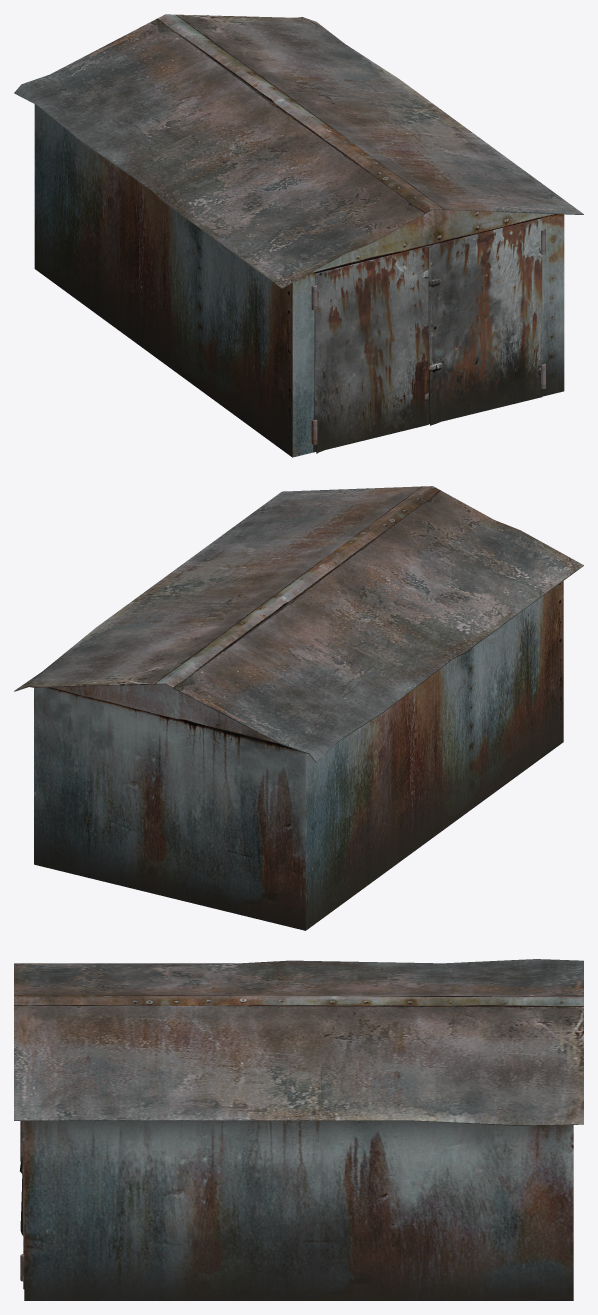
The model's file is garaje_blue.FBX.
The picture shows the model from 3 angles, top to bottom: view 1: azimuth 30°, elevation 25°; view 2: azimuth 150°, elevation 25°; view 3: azimuth 270°, elevation 25°; orthographic projection. The views are drawn at different scales.
Visible parts, largest first — view 1: garaj2; view 2: garaj2; view 3: garaj2.
Boxes of the visible parts, box(x1,y1,x2,y2) form: garaj2: box(14, 14, 583, 457); garaj2: box(14, 486, 583, 930); garaj2: box(14, 959, 583, 1300).
Size of the model in its own units: 2.96 by 2.05 by 4.53.
